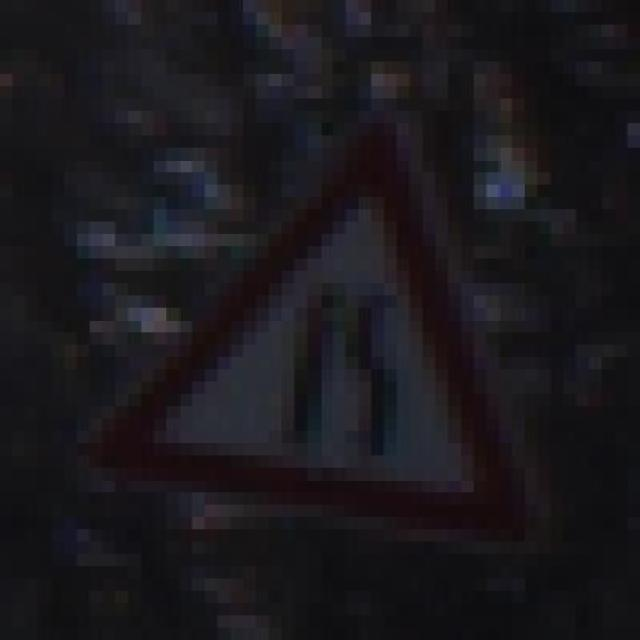-Road narrows on right: (76, 111, 576, 554)
